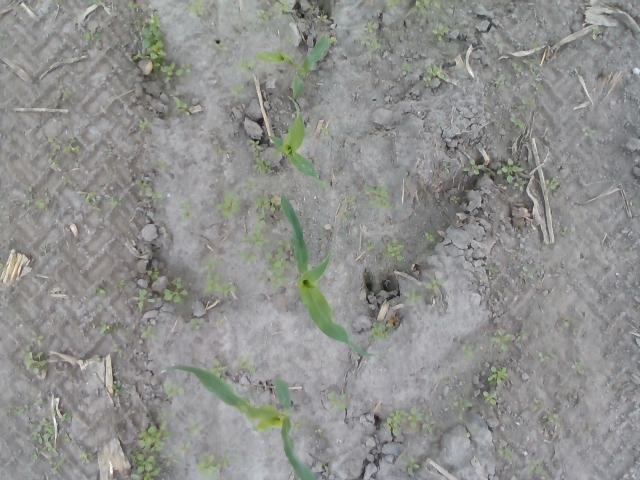Maize: (162, 363, 322, 480), (279, 192, 375, 356), (256, 36, 334, 99), (270, 91, 317, 179)
Weeds: (130, 15, 194, 82), (128, 420, 173, 480), (383, 405, 435, 435), (264, 239, 291, 289), (30, 416, 60, 458), (496, 158, 528, 196), (196, 448, 233, 480), (509, 95, 538, 128), (248, 138, 272, 175), (253, 193, 282, 223), (162, 276, 192, 305), (254, 0, 290, 24), (362, 183, 394, 209), (204, 256, 224, 296), (216, 190, 241, 220), (241, 224, 270, 248), (22, 350, 48, 376), (326, 389, 352, 414), (490, 326, 513, 353), (384, 238, 406, 266), (408, 0, 442, 18), (422, 62, 447, 86), (136, 177, 162, 200), (354, 34, 384, 53), (451, 398, 474, 422), (134, 288, 156, 312), (512, 56, 536, 78), (46, 136, 62, 168), (336, 196, 354, 224), (160, 382, 188, 400), (558, 313, 579, 337), (367, 320, 388, 344), (486, 365, 510, 385), (80, 29, 104, 48), (78, 190, 100, 210), (99, 319, 123, 337), (151, 157, 177, 173), (461, 158, 483, 176), (0, 405, 30, 418), (178, 198, 194, 222), (493, 70, 512, 90), (430, 22, 449, 42), (188, 0, 210, 17), (20, 182, 34, 208), (462, 344, 482, 362), (238, 354, 258, 372), (405, 288, 426, 305), (227, 80, 248, 97), (160, 452, 182, 468), (237, 55, 256, 73), (403, 456, 420, 476), (110, 381, 130, 398), (49, 456, 66, 474), (208, 359, 224, 378), (526, 458, 544, 474), (64, 136, 80, 154), (544, 176, 562, 192), (499, 446, 514, 464), (80, 447, 94, 466), (482, 390, 498, 406), (399, 61, 416, 76), (222, 281, 240, 295), (110, 195, 128, 209), (174, 96, 188, 114), (422, 227, 438, 242), (126, 0, 143, 14), (530, 396, 544, 412), (214, 36, 226, 53), (560, 226, 577, 238), (536, 350, 554, 361), (426, 280, 444, 291), (178, 440, 192, 454), (138, 116, 152, 130), (188, 423, 201, 438), (32, 330, 44, 346), (142, 326, 158, 338), (34, 198, 50, 210), (522, 265, 534, 281), (384, 0, 401, 11), (95, 286, 110, 298), (366, 19, 378, 34), (240, 251, 256, 262), (442, 158, 453, 174), (543, 413, 560, 423), (146, 268, 160, 280), (245, 176, 257, 189), (191, 318, 203, 330), (116, 278, 130, 288), (212, 145, 224, 156), (61, 175, 73, 186), (61, 87, 74, 97), (316, 12, 328, 22), (286, 54, 296, 66), (62, 412, 72, 424), (294, 414, 300, 433), (485, 266, 499, 274), (87, 0, 103, 7), (113, 343, 124, 353), (590, 25, 600, 35), (582, 127, 592, 137), (518, 328, 528, 338), (450, 195, 460, 205), (529, 40, 540, 49), (32, 400, 48, 406), (0, 254, 5, 273), (574, 362, 584, 370), (536, 84, 546, 92), (286, 36, 294, 45), (367, 240, 375, 248), (320, 127, 328, 135), (64, 434, 71, 442), (56, 0, 64, 6), (314, 76, 321, 80), (493, 144, 497, 150), (348, 319, 352, 324)
